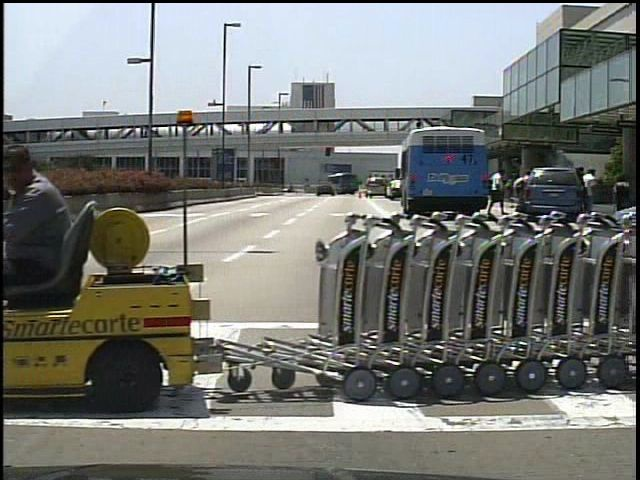person: (0, 142, 82, 327), (580, 165, 601, 214), (511, 167, 531, 218), (489, 166, 509, 217)
